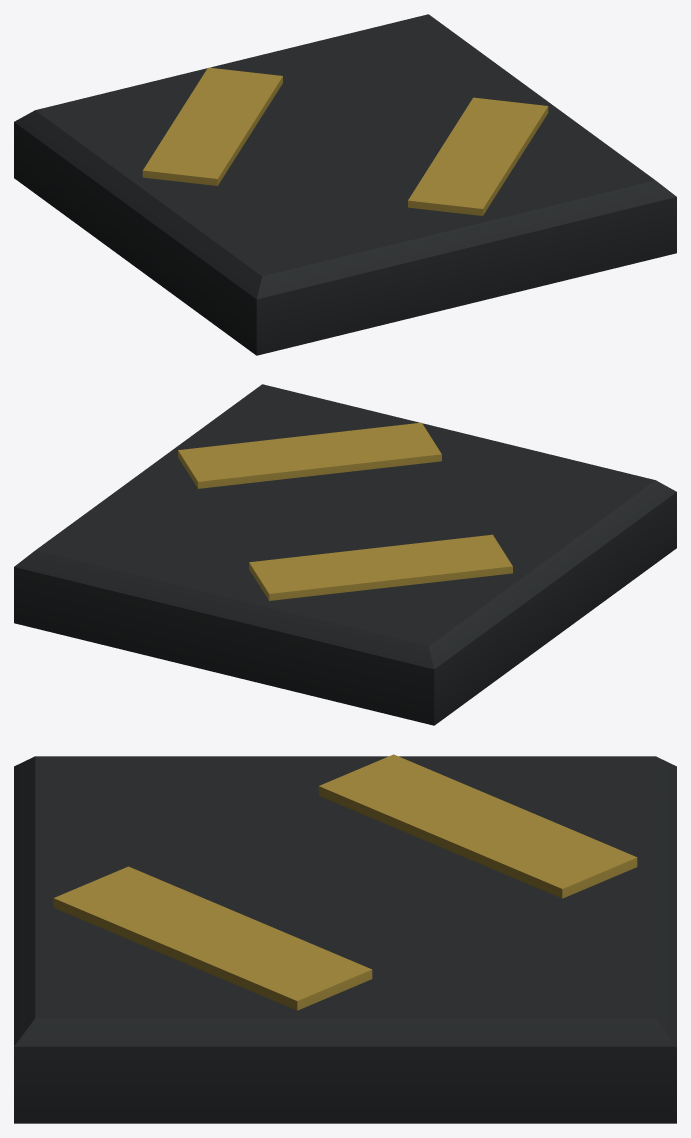
The model's file is hazard-concrete.glb.
3 views of the same model, one above another, from view 1: azimuth 30°, elevation 25°; view 2: azimuth 150°, elevation 25°; view 3: azimuth 270°, elevation 25° (orthographic). The views are drawn at different scales.
Visible parts, largest first — view 1: hazard-concrete; view 2: hazard-concrete; view 3: hazard-concrete.
Part boxes in pixels (left/top/right/bottom): hazard-concrete: left=14, top=14, right=676, bottom=355; hazard-concrete: left=14, top=384, right=676, bottom=725; hazard-concrete: left=14, top=754, right=676, bottom=1123.
Bounding box in the file's own units: 0.25 × 0.044 × 0.25.
